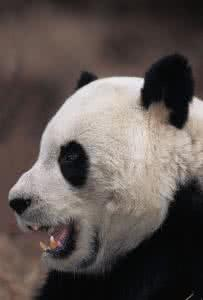panda: (11, 56, 202, 300)
